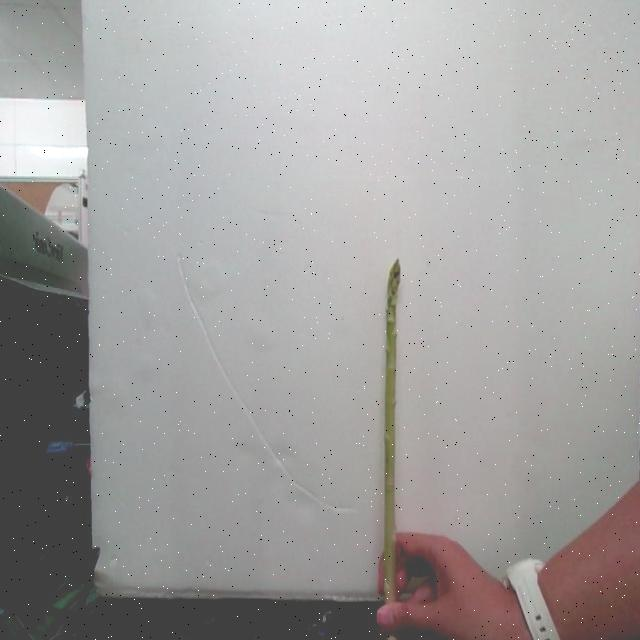aspargus: (383, 261, 403, 603)
